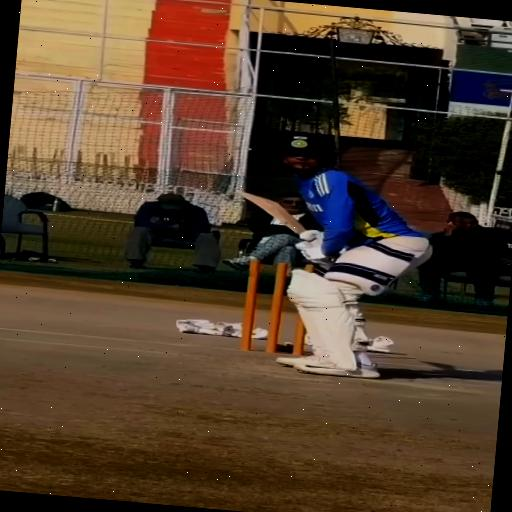Cricket bat: (240, 191, 305, 234)
